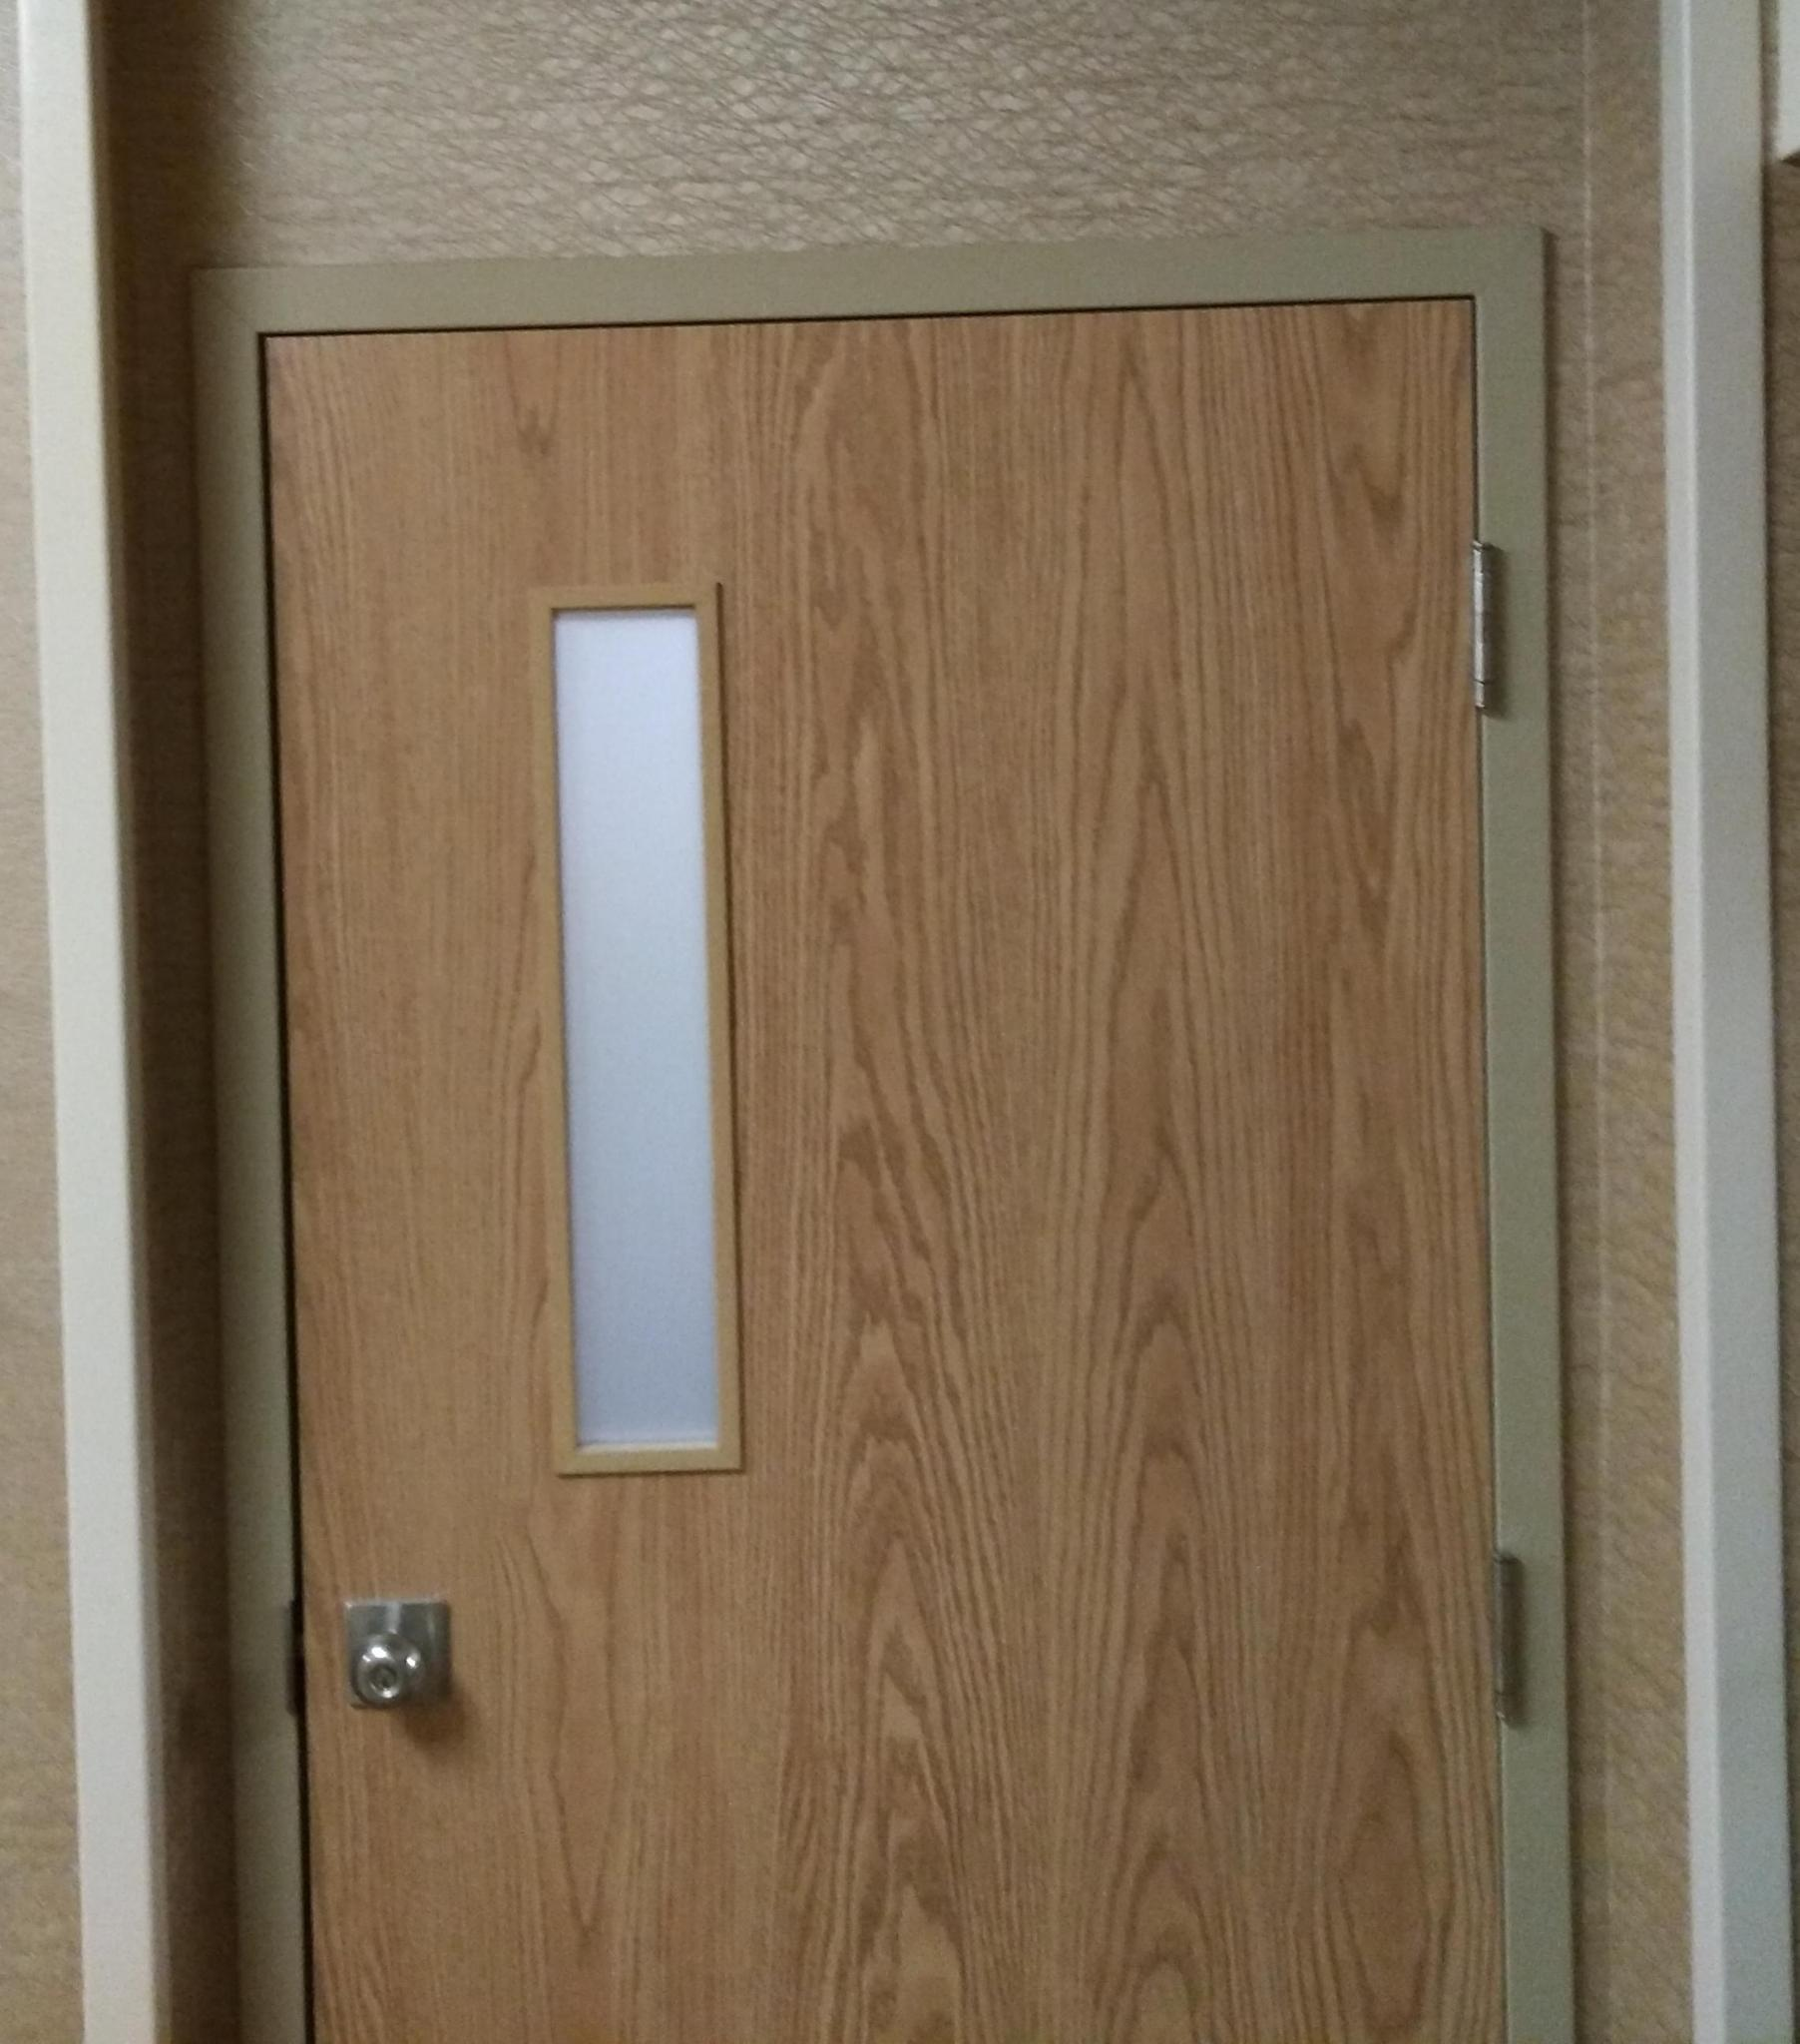door: (271, 337, 1484, 2044)
handle: (342, 1613, 447, 1749)
